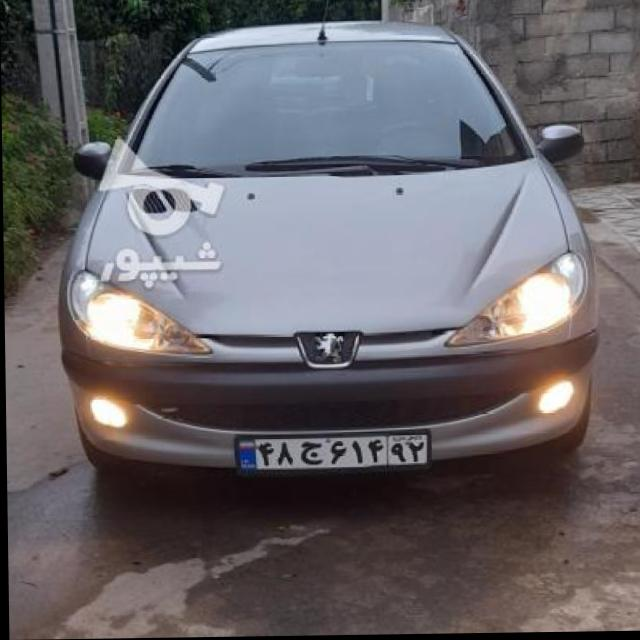licence: (228, 430, 432, 468)
